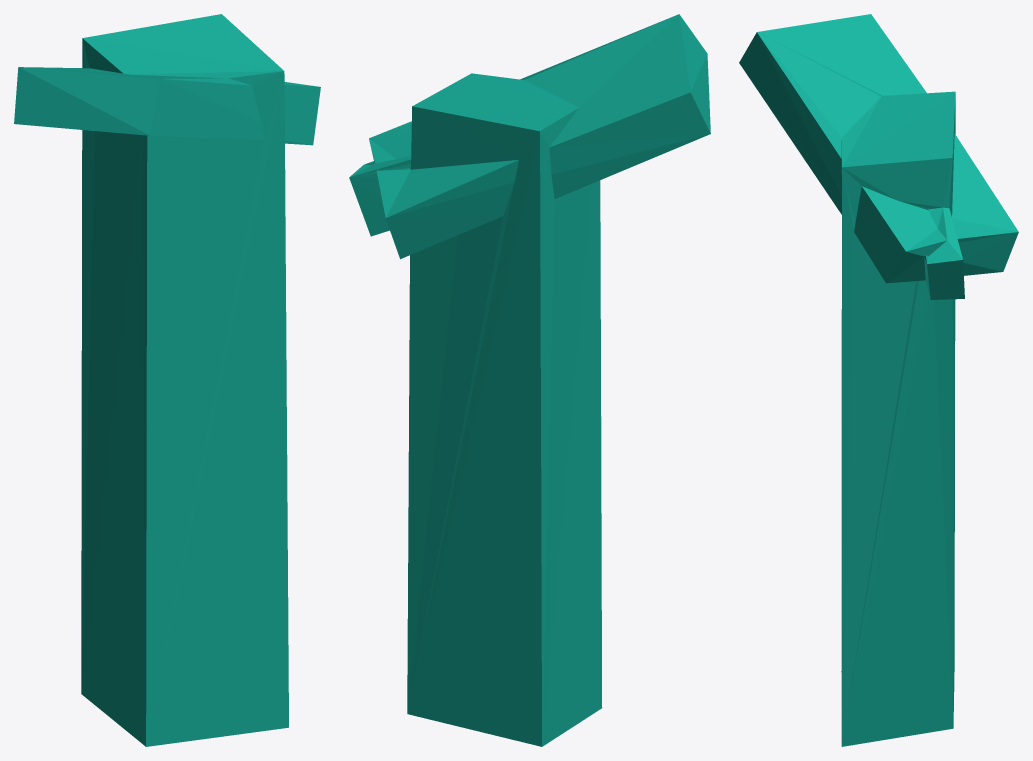
3 views of the same model, side by side, from view 1: azimuth 30°, elevation 25°; view 2: azimuth 150°, elevation 25°; view 3: azimuth 270°, elevation 25° (orthographic). The views are drawn at different scales.
Parts seen in each view (by area): view 1: 329_Cube.1347; view 2: 329_Cube.1347; view 3: 329_Cube.1347.
Boxes of the visible parts, box(x1,y1,x2,y2) form: 329_Cube.1347: box(14, 14, 320, 746); 329_Cube.1347: box(349, 14, 710, 746); 329_Cube.1347: box(739, 14, 1018, 746).
Size of the model in its own units: 6.43 by 13.32 by 5.29.
